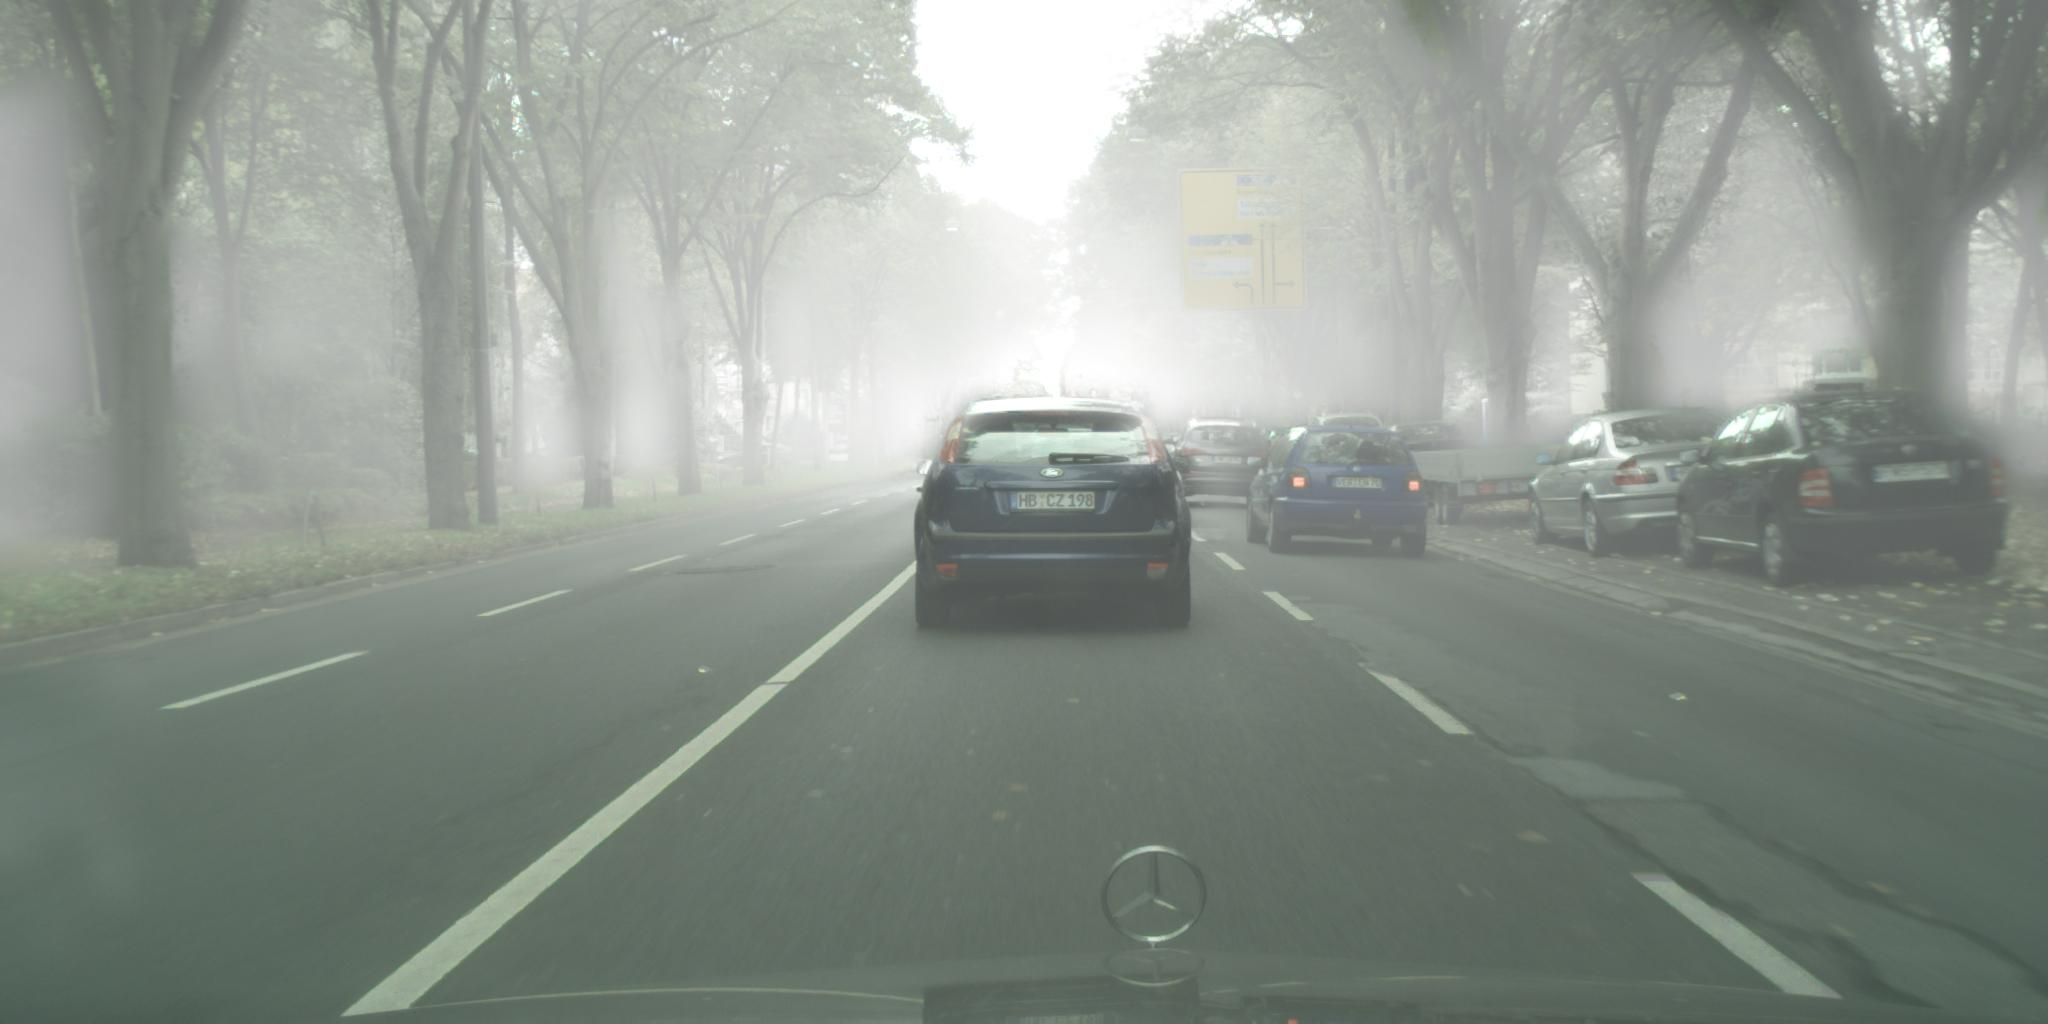car: (1677, 387, 2011, 590), (914, 398, 1192, 630), (1528, 409, 1735, 559), (1246, 426, 1428, 562), (1162, 418, 1273, 513), (1384, 421, 1475, 465), (1302, 411, 1388, 444), (1155, 434, 1187, 465), (1266, 428, 1293, 465), (717, 451, 744, 472), (1256, 428, 1277, 449), (778, 444, 792, 464), (763, 444, 772, 468), (797, 451, 802, 462)
